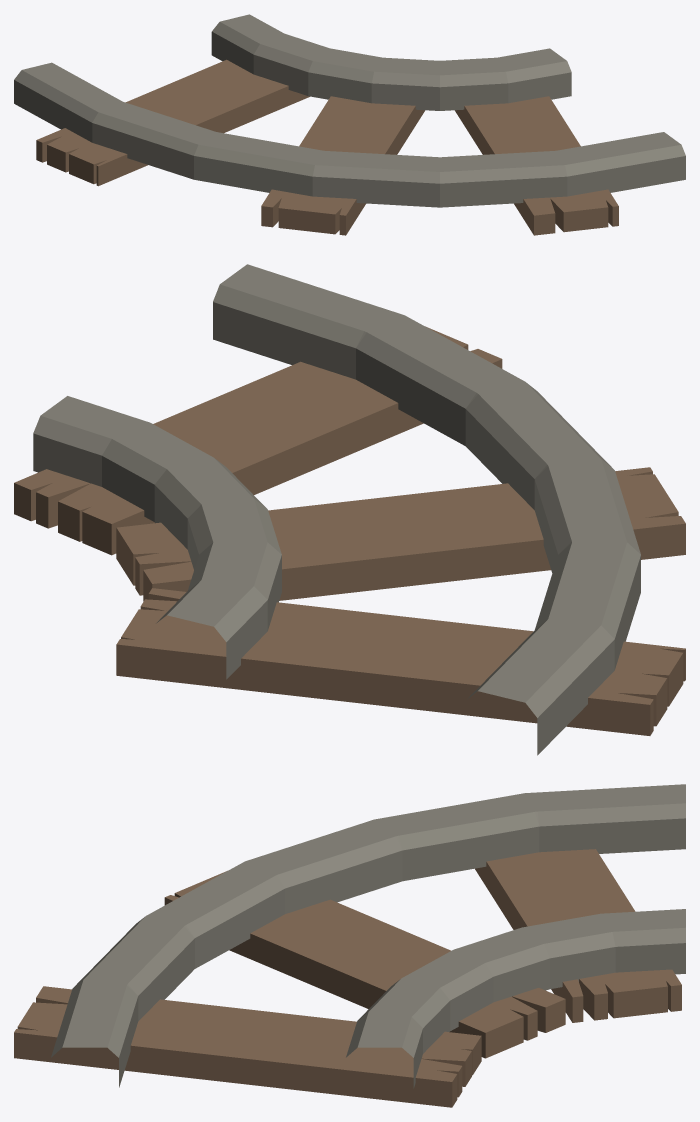
Rendered from Cave_Prop_Railway_Curve_Small.glb.
3 renders of one model, top to bottom at view 1: azimuth 30°, elevation 25°; view 2: azimuth 150°, elevation 25°; view 3: azimuth 270°, elevation 25°, orthographic. The views are drawn at different scales.
Parts seen in each view (by area): view 1: Cave_Prop_Railway_Curve_Small; view 2: Cave_Prop_Railway_Curve_Small; view 3: Cave_Prop_Railway_Curve_Small.
Boxes of the visible parts, x1,y1,x2,y2 form: Cave_Prop_Railway_Curve_Small: [14, 14, 685, 235]; Cave_Prop_Railway_Curve_Small: [14, 264, 685, 755]; Cave_Prop_Railway_Curve_Small: [14, 784, 685, 1107].
Bounding box in the file's own units: 1.48 × 0.15 × 1.48.
